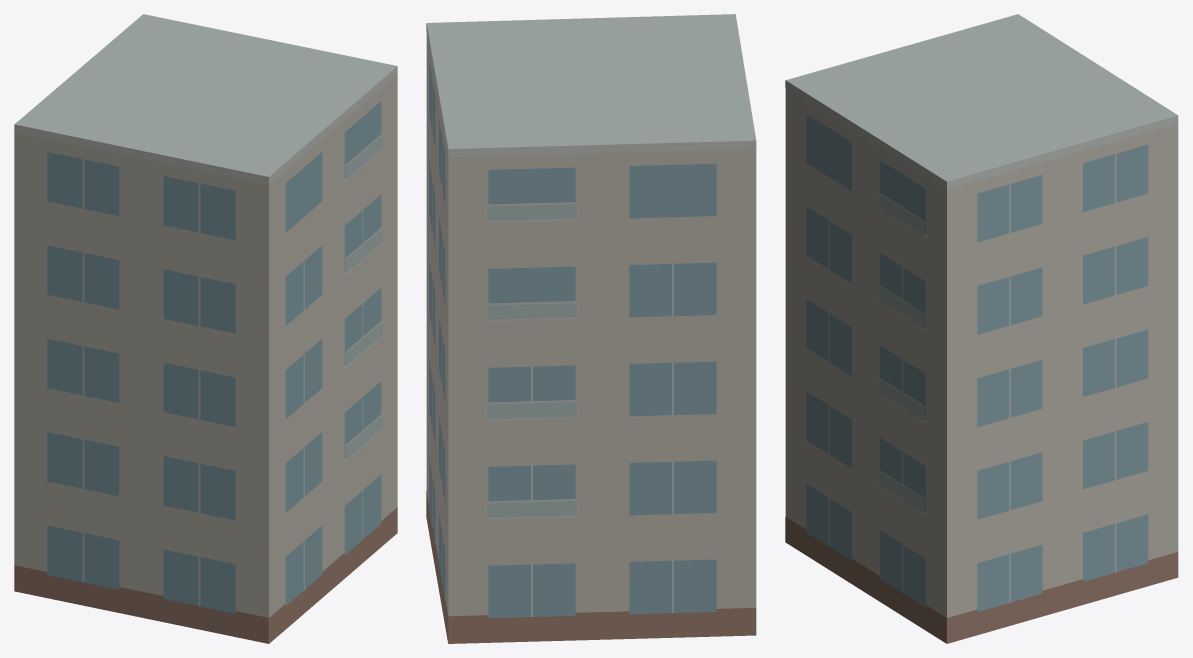
Rendered from survey-upis-32887536.glb.
3 views of the same model, side by side, from view 1: azimuth 30°, elevation 25°; view 2: azimuth 150°, elevation 25°; view 3: azimuth 270°, elevation 25° (orthographic). The views are drawn at different scales.
Parts seen in each view (by area): view 1: survey-upis-32887536.tmp; view 2: survey-upis-32887536.tmp; view 3: survey-upis-32887536.tmp.
Boxes of the visible parts, bbox=[...] form: survey-upis-32887536.tmp: bbox=[14, 14, 397, 643]; survey-upis-32887536.tmp: bbox=[426, 14, 756, 643]; survey-upis-32887536.tmp: bbox=[785, 14, 1178, 643].
Bounding box in the file's own units: 11.39 × 14.62 × 11.27.
